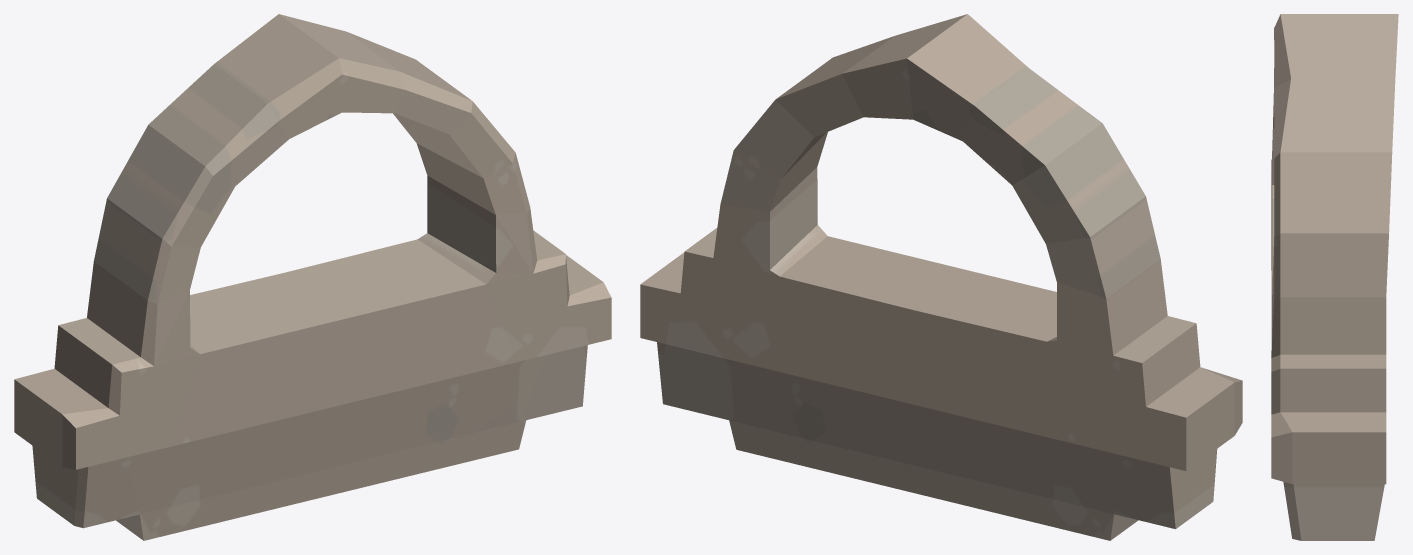
File: SM_Bld_Village_Edge_02.glb
3 views of the same model, side by side, from view 1: azimuth 30°, elevation 25°; view 2: azimuth 150°, elevation 25°; view 3: azimuth 270°, elevation 25° (orthographic). The views are drawn at different scales.
Parts seen in each view (by area): view 1: SM_Bld_Village_Edge_02; view 2: SM_Bld_Village_Edge_02; view 3: SM_Bld_Village_Edge_02.
Boxes of the visible parts, <box> form: SM_Bld_Village_Edge_02: <box>14,14,611,540</box>; SM_Bld_Village_Edge_02: <box>640,14,1242,540</box>; SM_Bld_Village_Edge_02: <box>1271,14,1398,540</box>.
Bounding box in the file's own units: 2.57 × 2 × 0.5329.
Materials: 1 (1 with a texture image).
